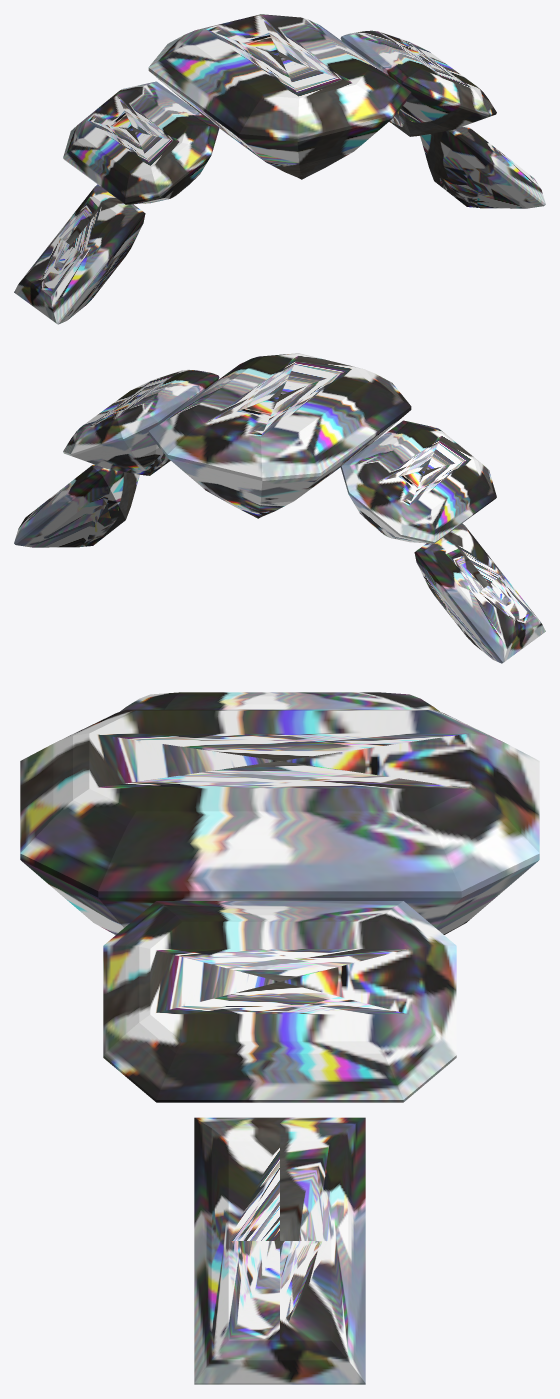
3 views of the same model, one above another, from view 1: azimuth 30°, elevation 25°; view 2: azimuth 150°, elevation 25°; view 3: azimuth 270°, elevation 25° (orthographic). The views are drawn at different scales.
Visible parts, largest first — view 1: Object_6, Object_5, Object_3, Object_4, Object_1; view 2: Object_6, Object_5, Object_3, Object_4, Object_1; view 3: Object_6, Object_4, Object_1, Object_5.
Boxes of the visible parts, <box> form: Object_6: <box>148,14,411,179</box>; Object_5: <box>63,81,219,204</box>; Object_3: <box>14,184,145,324</box>; Object_4: <box>340,30,496,136</box>; Object_1: <box>420,125,545,208</box>; Object_6: <box>148,353,411,518</box>; Object_5: <box>340,420,496,543</box>; Object_3: <box>414,523,545,663</box>; Object_4: <box>63,369,219,475</box>; Object_1: <box>14,464,139,547</box>; Object_6: <box>20,709,539,934</box>; Object_4: <box>103,901,456,1102</box>; Object_1: <box>194,1117,365,1384</box>; Object_5: <box>120,692,439,711</box>.
Bounding box in the file's own units: 19.97 × 9.18 × 7.67.
Materials: 1 (1 with a texture image).
